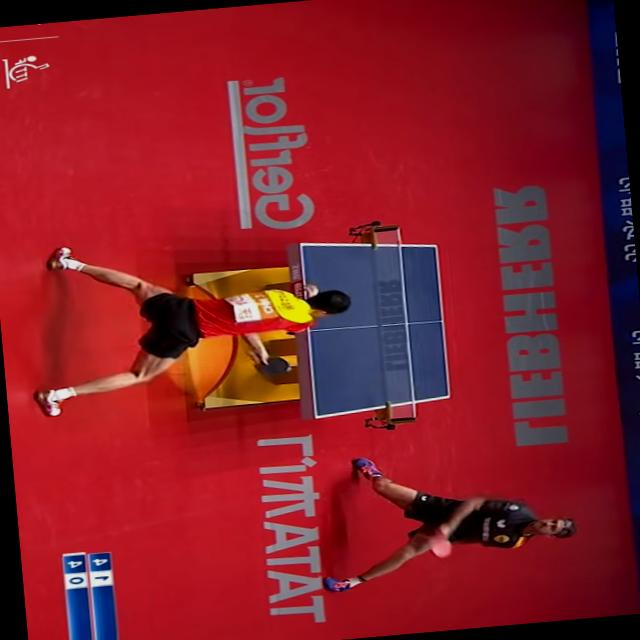TT Net: (369, 224, 415, 423)
TT Racket: (248, 350, 295, 385), (415, 523, 456, 561)
TT Table: (300, 232, 449, 418)
